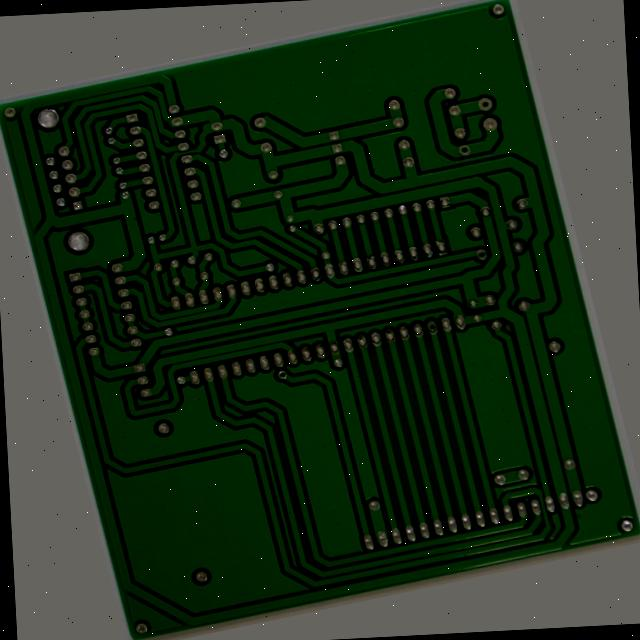missing_hole: (551, 97, 575, 118), (514, 265, 535, 285), (516, 146, 539, 164), (252, 368, 273, 383), (440, 340, 458, 355)
